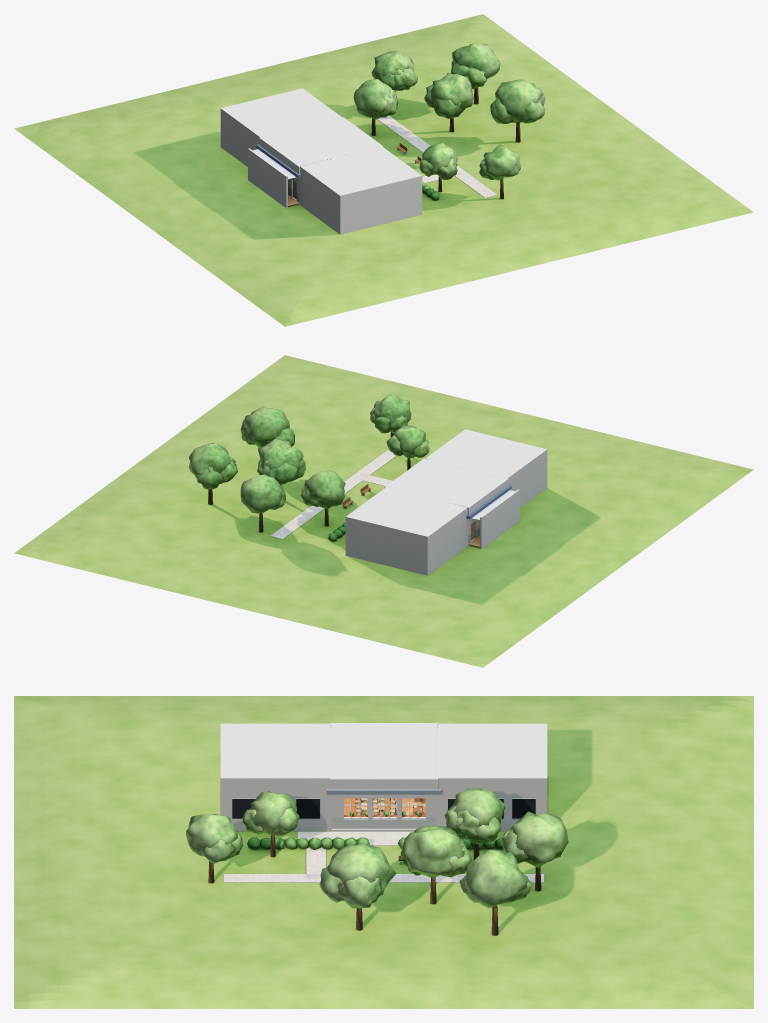
File: classroom_v3.glb
3 renders of one model, top to bottom at view 1: azimuth 30°, elevation 25°; view 2: azimuth 150°, elevation 25°; view 3: azimuth 270°, elevation 25°, orthographic. The views are drawn at different scales.
Parts seen in each view (by area): view 1: BK_ground, BK_ext, BK_trees; view 2: BK_ground, BK_ext, BK_trees; view 3: BK_ground, BK_ext, BK_trees, BK_shell, BK_floor.
Boxes of the visible parts, bbox=[...] form: BK_ground: bbox=[14, 14, 753, 326]; BK_ext: bbox=[220, 88, 422, 234]; BK_trees: bbox=[353, 43, 545, 200]; BK_ground: bbox=[14, 355, 753, 667]; BK_ext: bbox=[345, 429, 547, 575]; BK_trees: bbox=[189, 394, 429, 541]; BK_ground: bbox=[14, 696, 753, 1008]; BK_ext: bbox=[220, 723, 547, 831]; BK_trees: bbox=[186, 788, 568, 935]; BK_shell: bbox=[331, 794, 436, 828]; BK_floor: bbox=[344, 798, 425, 815].
Size of the model in its own units: 60 by 7.94 by 60.
Materials: 9 (9 with a texture image).
